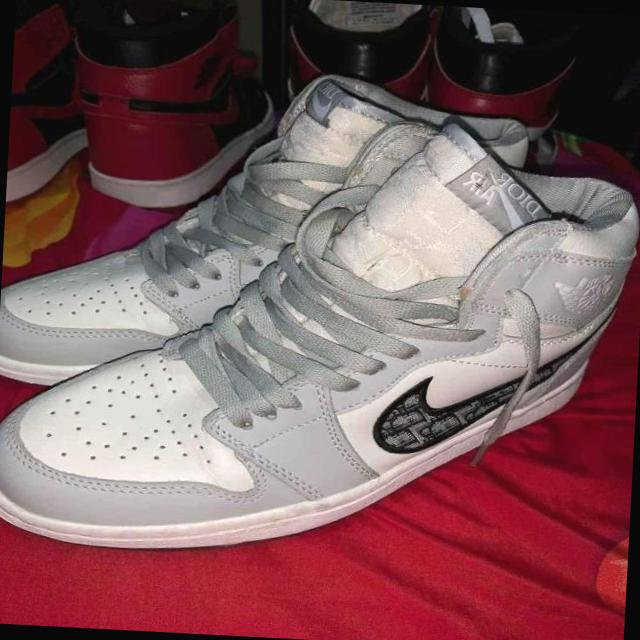nike_fake_jordan: (0, 97, 640, 576), (0, 50, 535, 412)
